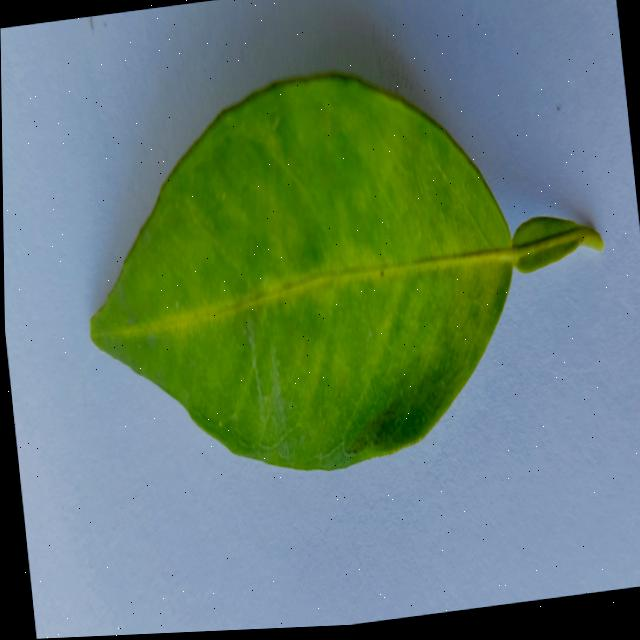greening: (90, 74, 603, 468)
